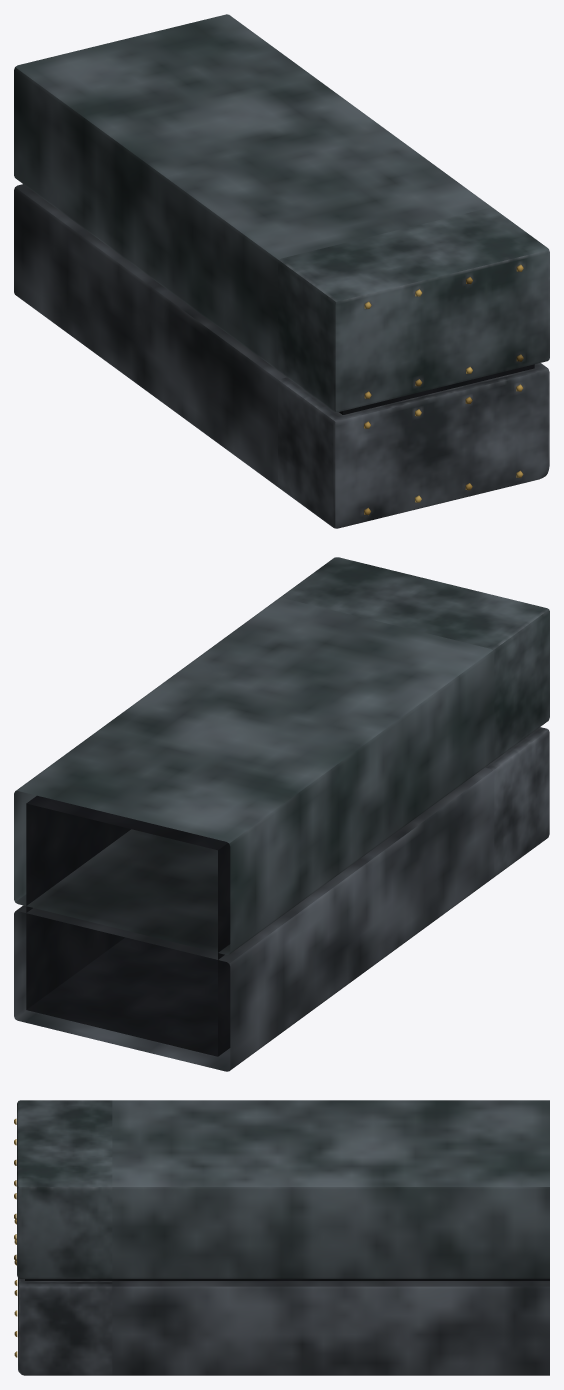
The model's file is ClockLung_Fill_A.fbx.
The picture shows the model from 3 angles, top to bottom: view 1: azimuth 30°, elevation 25°; view 2: azimuth 150°, elevation 25°; view 3: azimuth 270°, elevation 25°; orthographic projection. The views are drawn at different scales.
Parts seen in each view (by area): view 1: ClockLung_Fill_A; view 2: ClockLung_Fill_A; view 3: ClockLung_Fill_A.
Boxes of the visible parts, <box> form: ClockLung_Fill_A: <box>14,14,549,528</box>; ClockLung_Fill_A: <box>14,557,549,1071</box>; ClockLung_Fill_A: <box>14,1100,549,1375</box>.
Size of the model in its own units: 0.97 by 0.985 by 2.51.
